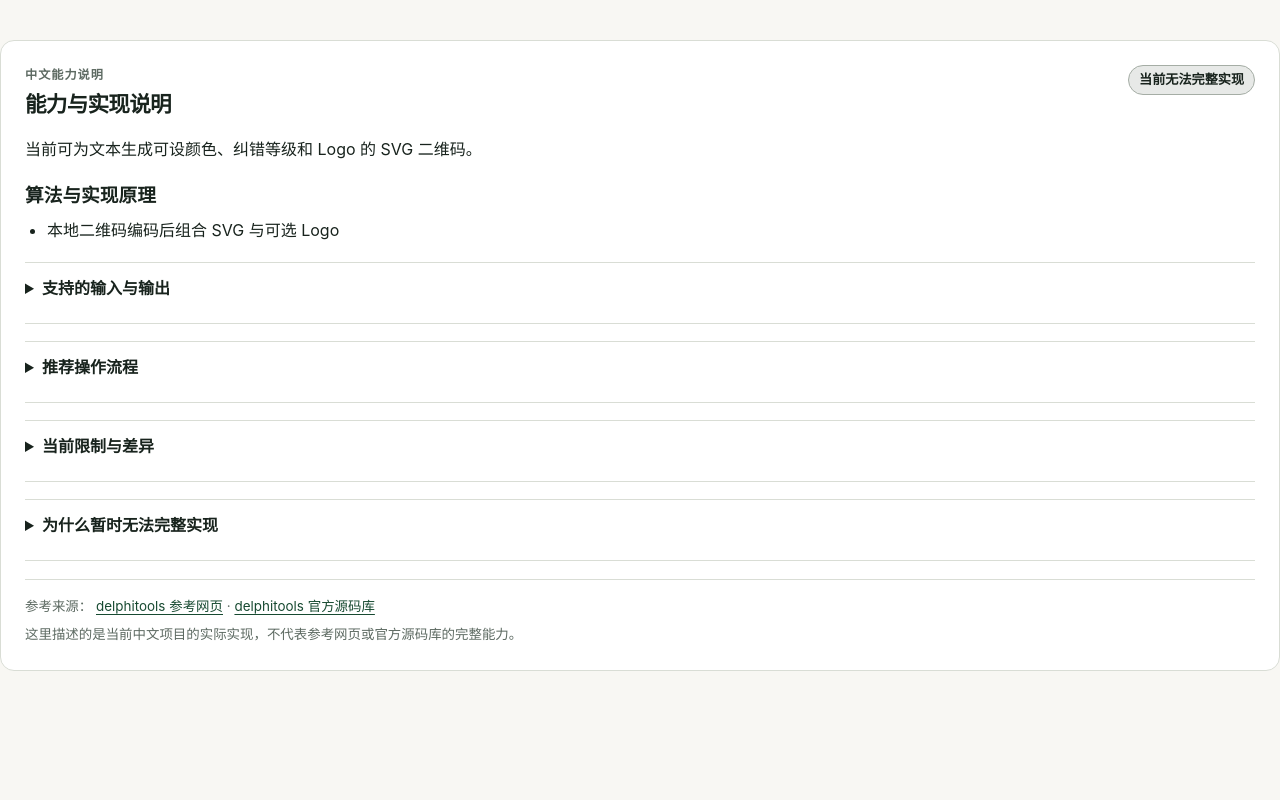
it: 工具能力与原理说明 › 先显示状态、摘要和算法原理，并能展开限制
The width and height of the screenshot is (1280, 800).
Expected: the heading "能力与实现说明" is shown, left=25, top=87, right=171, bottom=118
Expected: the text "当前无法完整实现" is shown, left=1128, top=65, right=1255, bottom=95
Click the heading "当前限制与差异" at (90, 445), box left=25, top=433, right=154, bottom=457
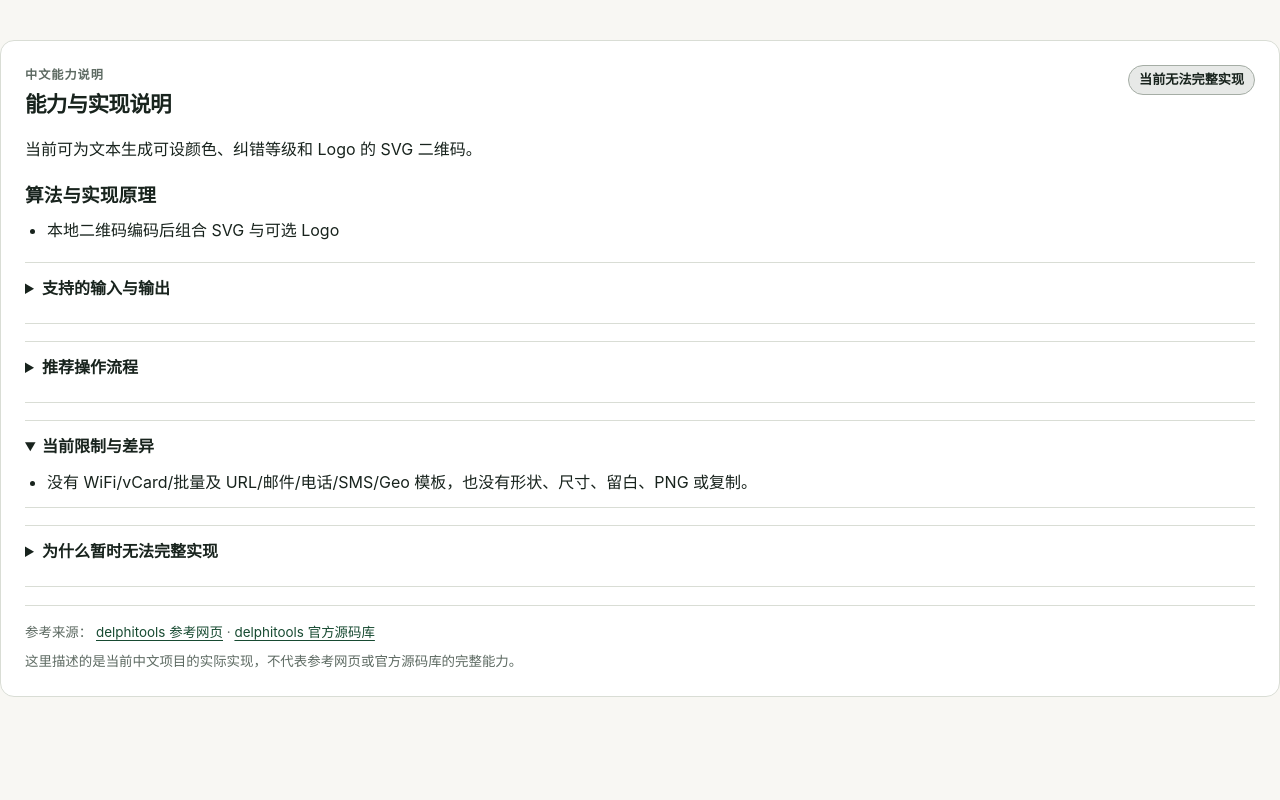
Now the list item "没有 WiFi/vCard/批量及 URL/邮件/电话/SMS/Geo 模板，也没有形状、尺寸、留白、PNG 或复制。" is shown, box left=47, top=472, right=757, bottom=492
